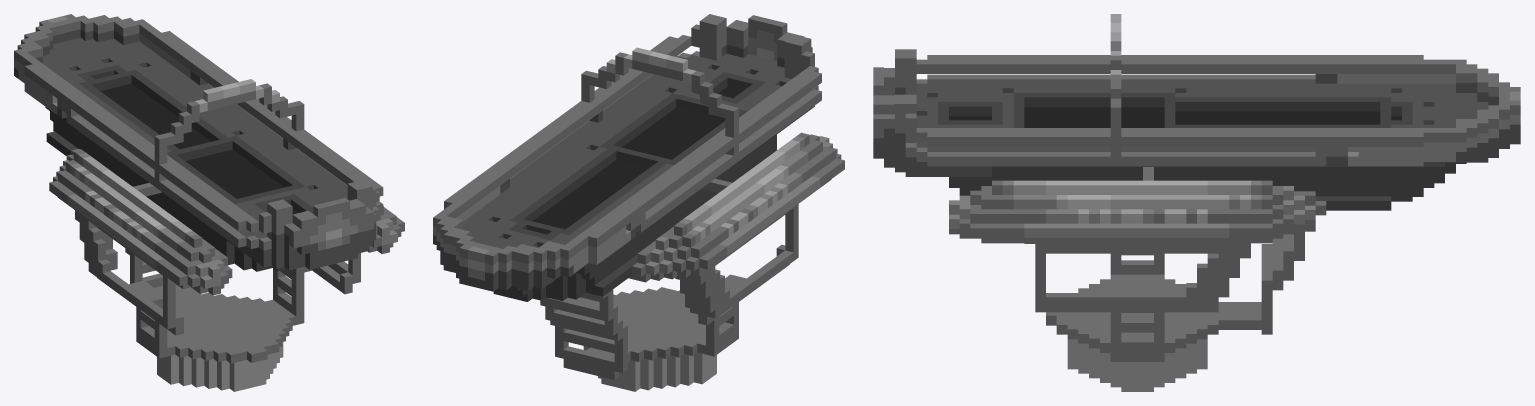
The model's file is Sleep Pod 2.obj.
The picture shows the model from 3 angles, left to right: view 1: azimuth 30°, elevation 25°; view 2: azimuth 150°, elevation 25°; view 3: azimuth 270°, elevation 25°; orthographic projection. The views are drawn at different scales.
Bounding box in the file's own units: 28 × 34 × 60.
Materials: 1 (1 with a texture image).
